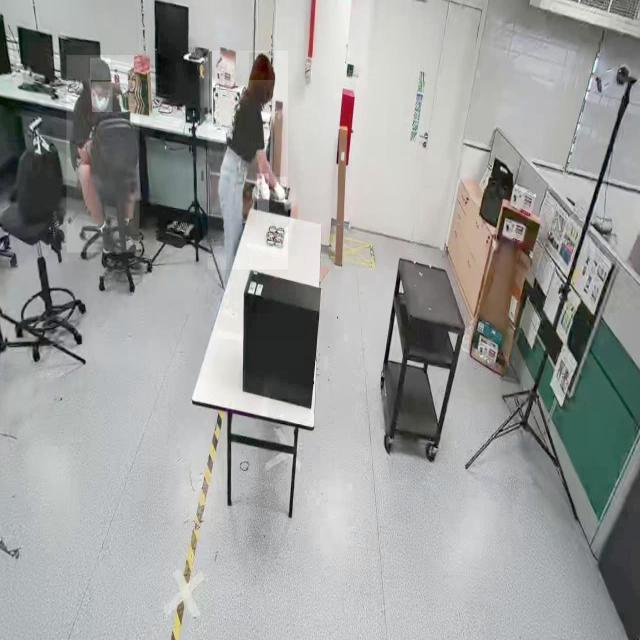face_mask: (92, 82, 112, 112)
hand_glove: (257, 174, 269, 212), (275, 177, 287, 203)
head_nohelmet: (249, 52, 275, 81), (90, 58, 111, 81)
person: (208, 51, 288, 270), (66, 55, 140, 253)
shoes: (97, 220, 115, 256), (122, 214, 140, 246)
